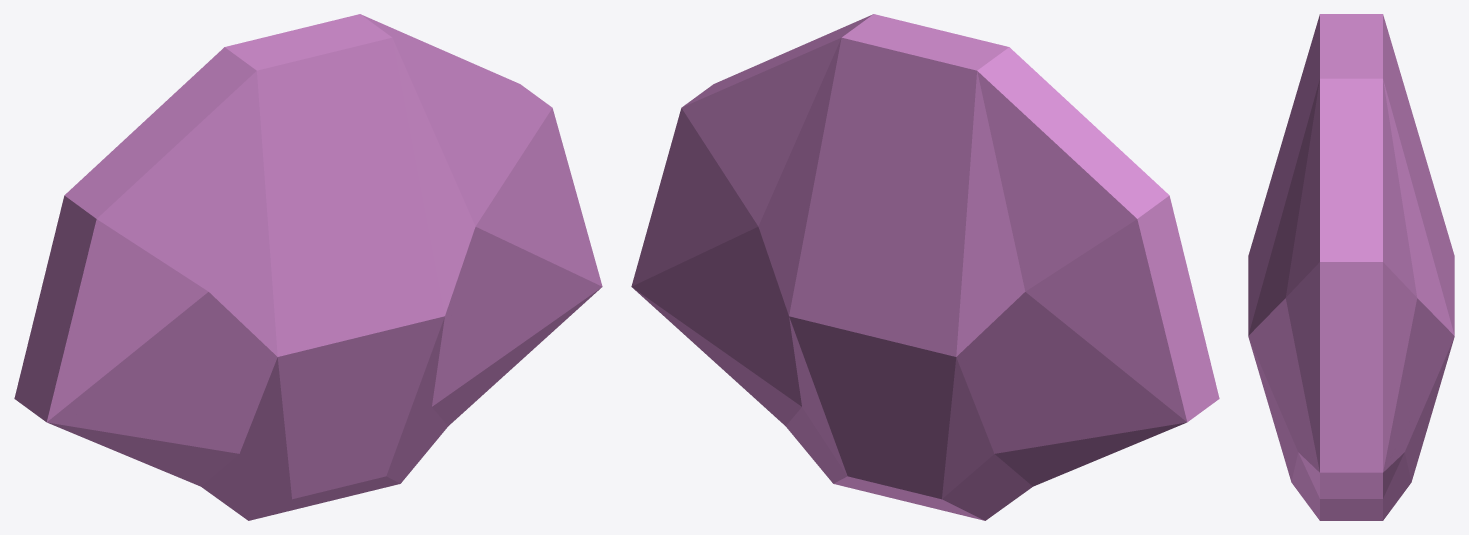
Rendered from Seashell 1 PINK.fbx.
3 views of the same model, side by side, from view 1: azimuth 30°, elevation 25°; view 2: azimuth 150°, elevation 25°; view 3: azimuth 270°, elevation 25° (orthographic). The views are drawn at different scales.
Visible parts, largest first — view 1: Box003; view 2: Box003; view 3: Box003.
Boxes of the visible parts, x1=… form: Box003: x1=14, y1=14, x2=602, y2=520; Box003: x1=631, y1=14, x2=1219, y2=520; Box003: x1=1248, y1=14, x2=1454, y2=520.
Bounding box in the file's own units: 33.15 × 25.54 × 10.91.
1 material, 1 textured.
